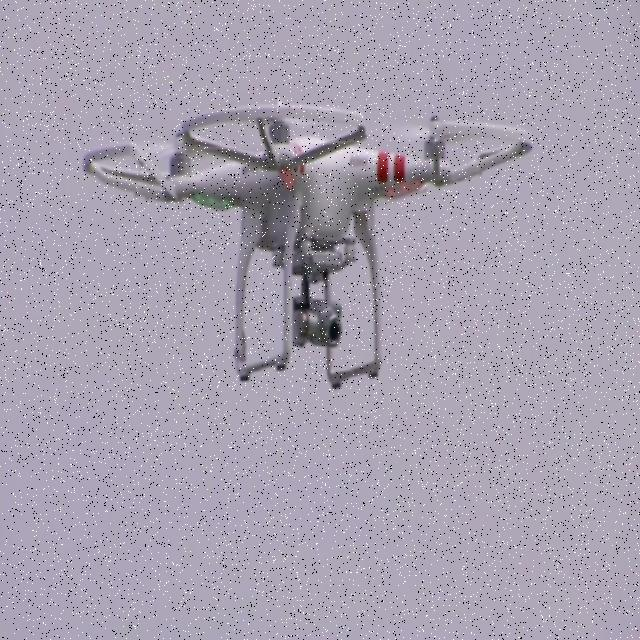UAV: (81, 91, 534, 397)
